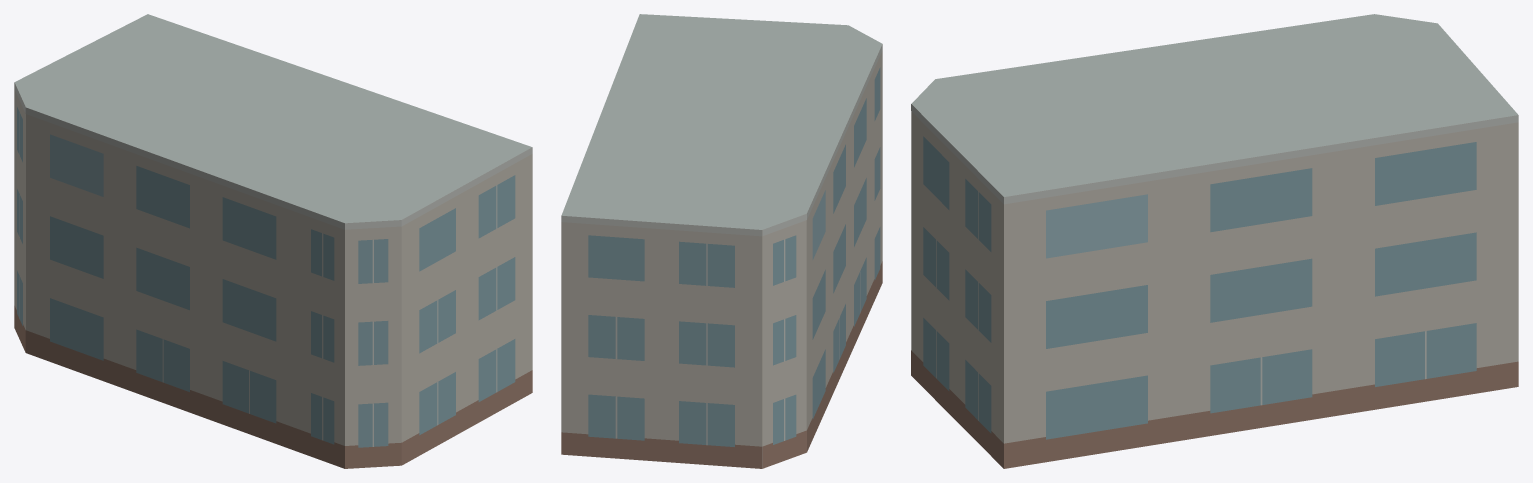
File: survey-upis-32702050.glb
3 views of the same model, side by side, from view 1: azimuth 30°, elevation 25°; view 2: azimuth 150°, elevation 25°; view 3: azimuth 270°, elevation 25° (orthographic). The views are drawn at different scales.
Parts seen in each view (by area): view 1: survey-upis-32702050.tmp; view 2: survey-upis-32702050.tmp; view 3: survey-upis-32702050.tmp.
Boxes of the visible parts, x1,y1,x2,y2 form: survey-upis-32702050.tmp: [14, 14, 532, 468]; survey-upis-32702050.tmp: [561, 14, 882, 468]; survey-upis-32702050.tmp: [911, 14, 1518, 468].
Size of the model in its own units: 13.24 by 9.15 by 18.55.
